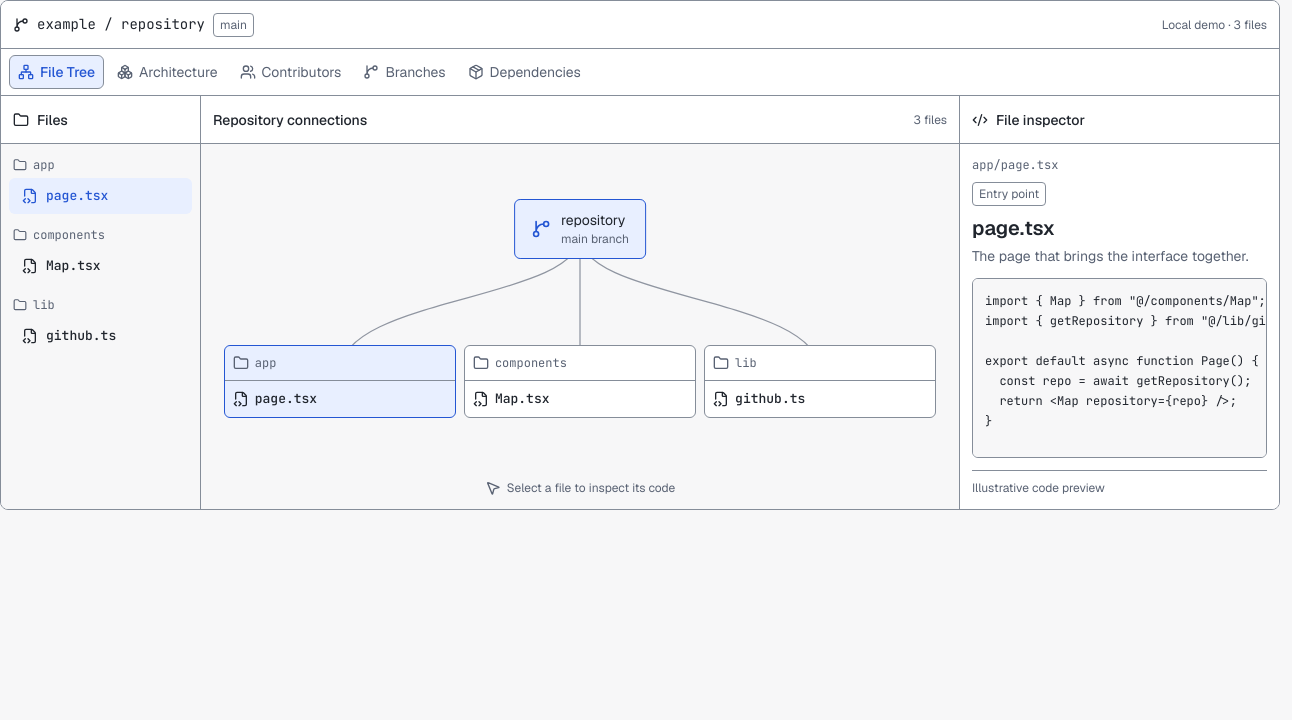
lets a visitor inspect a different demo file
Expected: the heading "page.tsx" is shown, [972, 215, 1055, 241]
Click the button "lib github.ts": (820, 381) [704, 345, 936, 418]
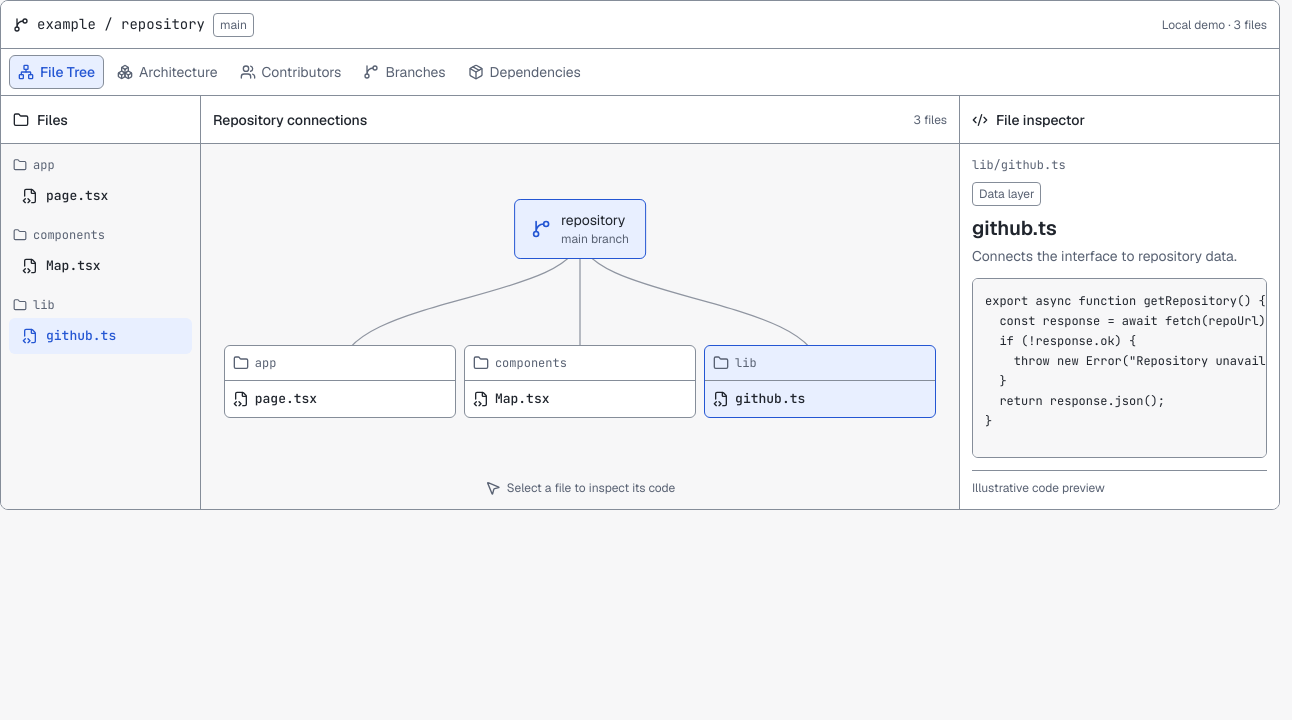
Result: the heading "github.ts" is shown at [972, 215, 1057, 241]
